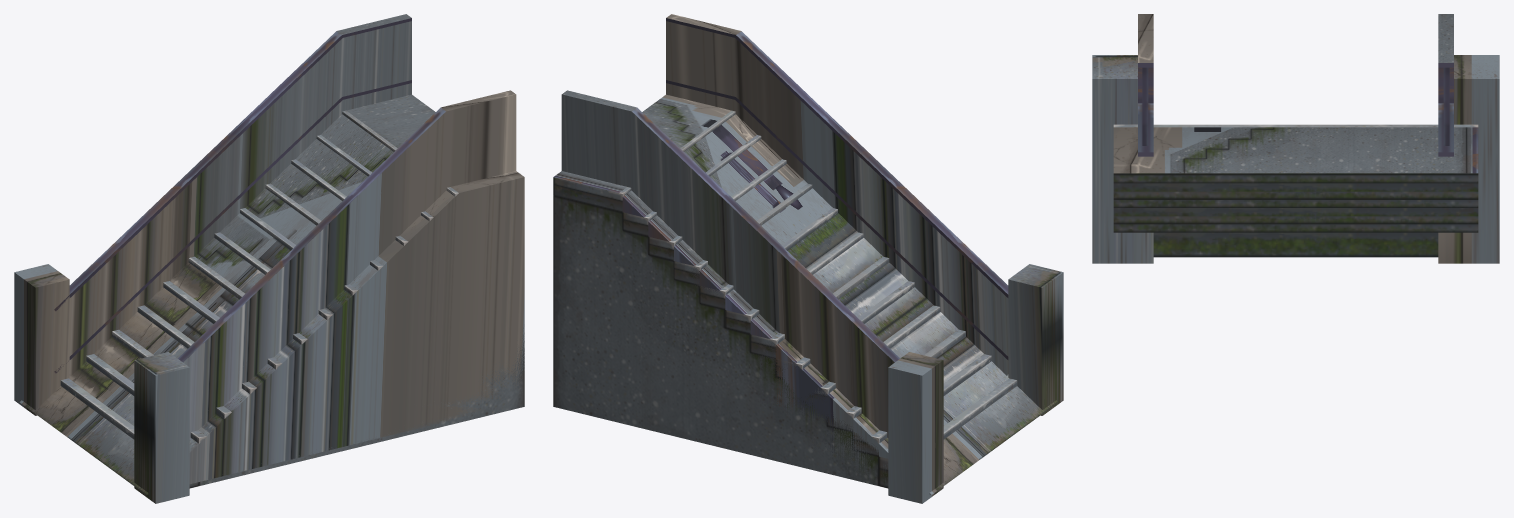
Rendered from stairs02_B.FBX.
3 renders of one model, left to right at view 1: azimuth 30°, elevation 25°; view 2: azimuth 150°, elevation 25°; view 3: azimuth 270°, elevation 25°, orthographic. The views are drawn at different scales.
Visible parts, largest first — view 1: stairs02_B_COL, stairs02_B; view 2: stairs02_B_COL, stairs02_B; view 3: stairs02_B, stairs02_B_COL.
Boxes of the visible parts, x1,y1,x2,y2 form: stairs02_B_COL: [14, 14, 524, 503]; stairs02_B: [54, 18, 524, 488]; stairs02_B_COL: [553, 14, 1063, 503]; stairs02_B: [553, 18, 1017, 488]; stairs02_B: [1113, 63, 1478, 257]; stairs02_B_COL: [1092, 14, 1499, 263].
Bounding box in the file's own units: 517 × 400 × 335.
